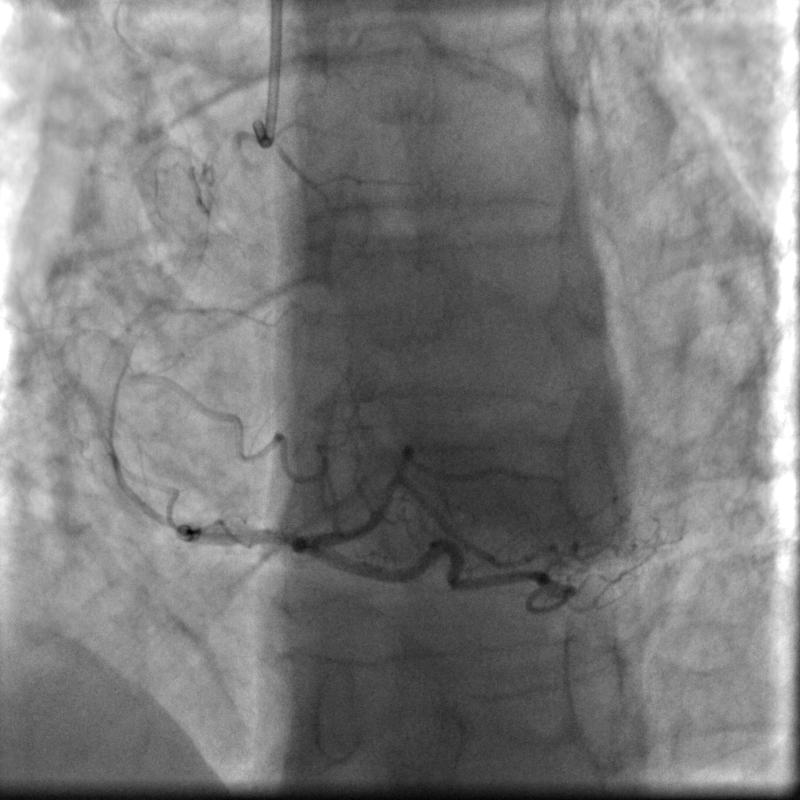Stenosis: (214, 510, 290, 557)
